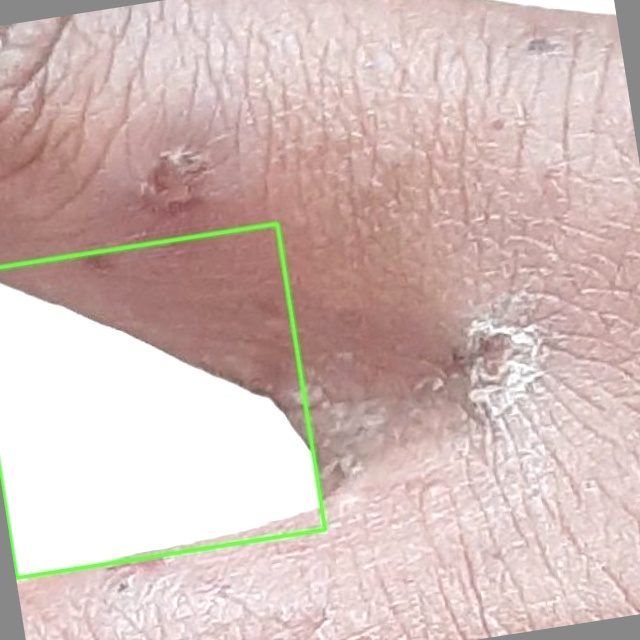Scabies: (0, 223, 325, 577)
